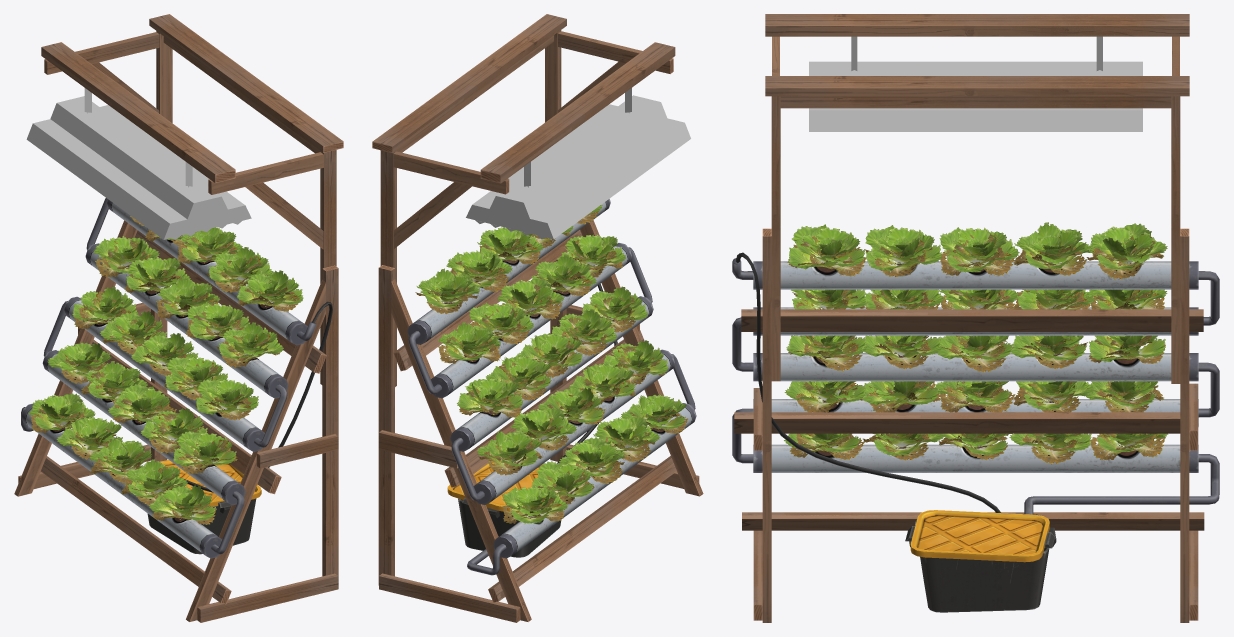
Rendered from hydroponics_V02_lettuce .fbx.
3 renders of one model, left to right at view 1: azimuth 30°, elevation 25°; view 2: azimuth 150°, elevation 25°; view 3: azimuth 270°, elevation 25°, orthographic. The views are drawn at different scales.
Visible parts, largest first — view 1: hydroponics_V02_lettuce, hydroponics_V02_lettuce _lamp, hydroponics_V02_lettuce _S3, hydroponics_V02_lettuce _S4, hydroponics_V02_lettuce _S2, hydroponics_V02_lettuce _S1; view 2: hydroponics_V02_lettuce, hydroponics_V02_lettuce _lamp, hydroponics_V02_lettuce _S3, hydroponics_V02_lettuce _S4, hydroponics_V02_lettuce _S2, hydroponics_V02_lettuce _S1; view 3: hydroponics_V02_lettuce, hydroponics_V02_lettuce _lamp, hydroponics_V02_lettuce _S3, hydroponics_V02_lettuce _S4, hydroponics_V02_lettuce _S2.
Part boxes in pixels (x1,y1,x2,y2): hydroponics_V02_lettuce: (14, 198, 338, 622); hydroponics_V02_lettuce _lamp: (26, 14, 343, 384); hydroponics_V02_lettuce _S3: (28, 227, 303, 520); hydroponics_V02_lettuce _S4: (30, 216, 300, 524); hydroponics_V02_lettuce _S2: (47, 241, 288, 511); hydroponics_V02_lettuce _S1: (57, 236, 279, 505); hydroponics_V02_lettuce: (378, 199, 703, 622); hydroponics_V02_lettuce _lamp: (372, 14, 690, 386); hydroponics_V02_lettuce _S3: (416, 205, 686, 523); hydroponics_V02_lettuce _S4: (415, 210, 687, 523); hydroponics_V02_lettuce _S2: (420, 237, 676, 516); hydroponics_V02_lettuce _S1: (435, 245, 661, 509); hydroponics_V02_lettuce: (732, 228, 1219, 622); hydroponics_V02_lettuce _lamp: (765, 14, 1189, 383); hydroponics_V02_lettuce _S3: (784, 222, 1168, 455); hydroponics_V02_lettuce _S4: (787, 229, 1165, 464); hydroponics_V02_lettuce _S2: (795, 234, 1154, 447).
Size of the model in its own units: 1.04 by 2.67 by 2.19.
